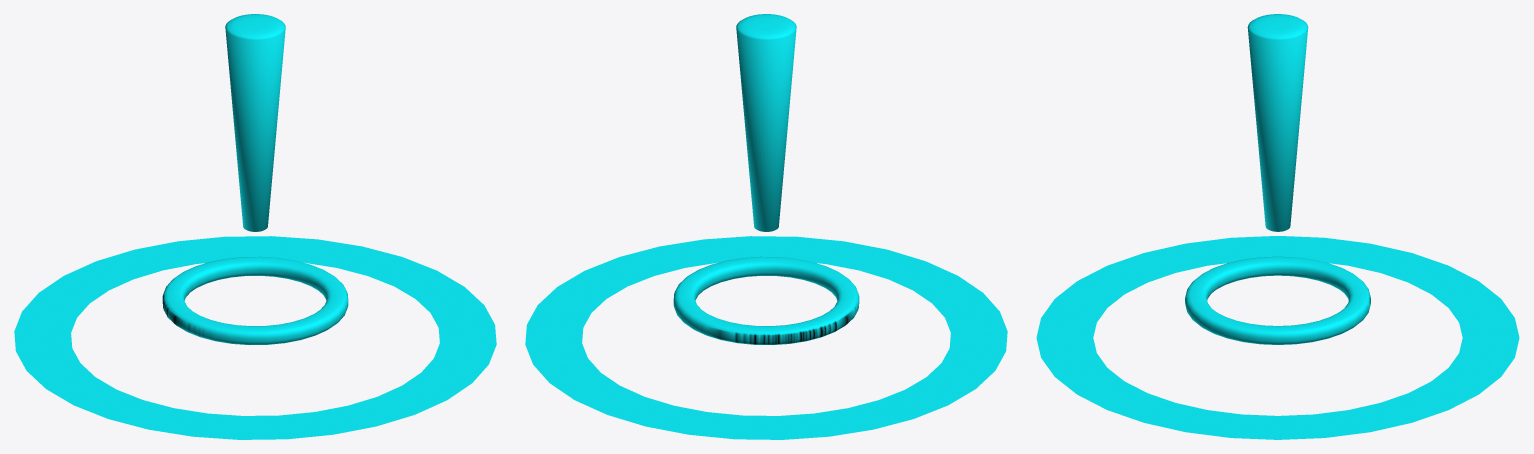
The model's file is selector.fbx.
The picture shows the model from 3 angles, left to right: view 1: azimuth 30°, elevation 25°; view 2: azimuth 150°, elevation 25°; view 3: azimuth 270°, elevation 25°; orthographic projection.
Parts seen in each view (by area): view 1: Circle; view 2: Circle; view 3: Circle.
Boxes of the visible parts, bbox=[...] form: Circle: bbox=[14, 14, 496, 439]; Circle: bbox=[525, 14, 1007, 439]; Circle: bbox=[1036, 14, 1519, 439].
Bounding box in the file's own units: 200 × 144 × 200.
